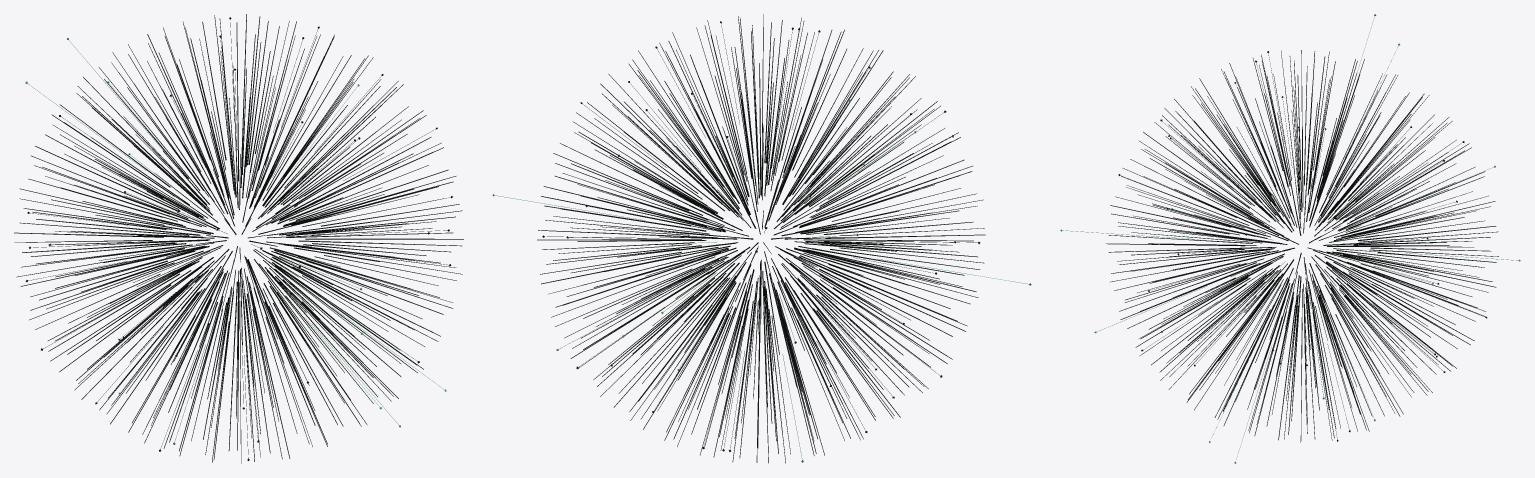
Rendered from latent_field_d0_lod2.glb.
3 views of the same model, side by side, from view 1: azimuth 30°, elevation 25°; view 2: azimuth 150°, elevation 25°; view 3: azimuth 270°, elevation 25° (orthographic). The views are drawn at different scales.
Visible parts, largest first — view 1: DISTANCE_SURFACE; view 2: DISTANCE_SURFACE; view 3: DISTANCE_SURFACE.
Boxes of the visible parts, x1,y1,x2,y2 form: DISTANCE_SURFACE: [14, 14, 463, 463]; DISTANCE_SURFACE: [492, 14, 1031, 463]; DISTANCE_SURFACE: [1060, 14, 1520, 463].
Size of the model in its own units: 31.81 by 31.79 by 37.26.
